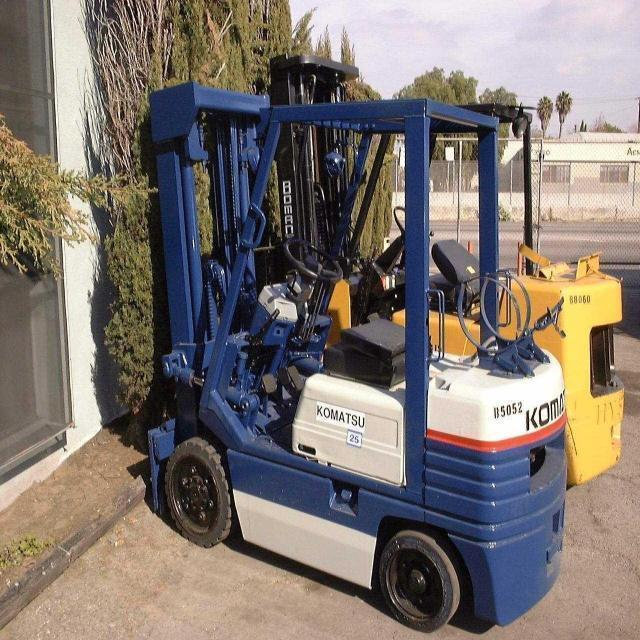forklift: (145, 48, 564, 634), (266, 53, 625, 491)
